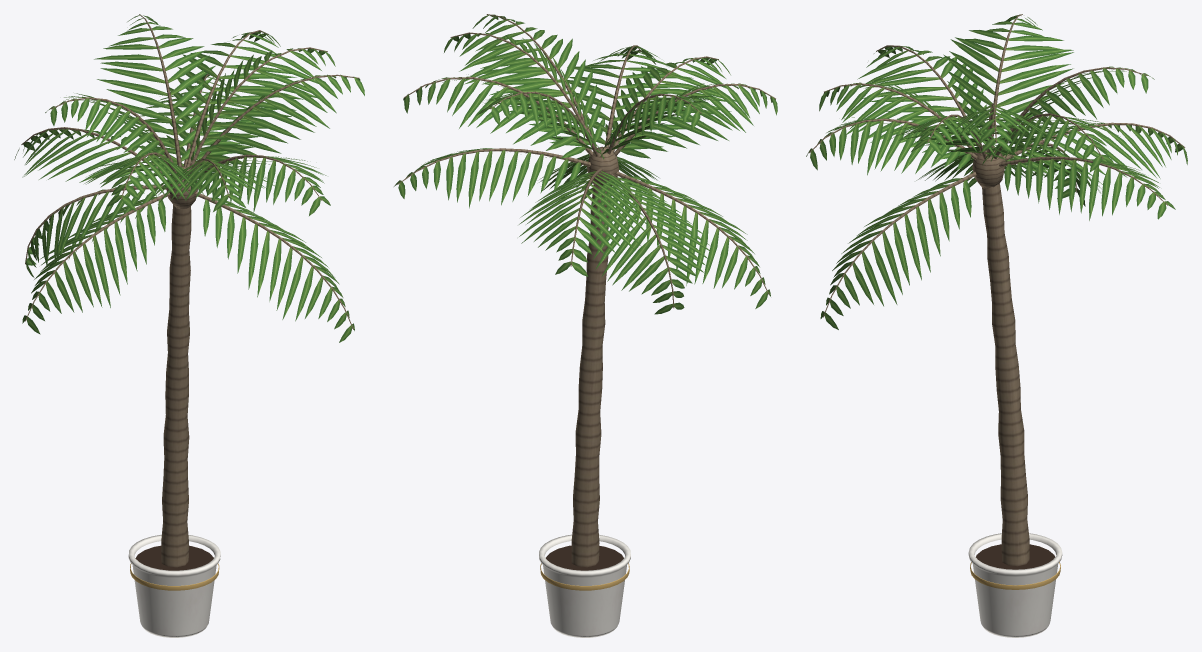
The model's file is palm_b.glb.
3 views of the same model, side by side, from view 1: azimuth 30°, elevation 25°; view 2: azimuth 150°, elevation 25°; view 3: azimuth 270°, elevation 25° (orthographic).
Parts seen in each view (by area): view 1: resort; view 2: resort; view 3: resort.
Part boxes in pixels (left/top/right/bottom): resort: left=14, top=14, right=364, bottom=637; resort: left=394, top=14, right=777, bottom=637; resort: left=806, top=14, right=1187, bottom=637.
Bounding box in the file's own units: 4.43 × 7.5 × 4.57.
5 materials, 3 textured.
